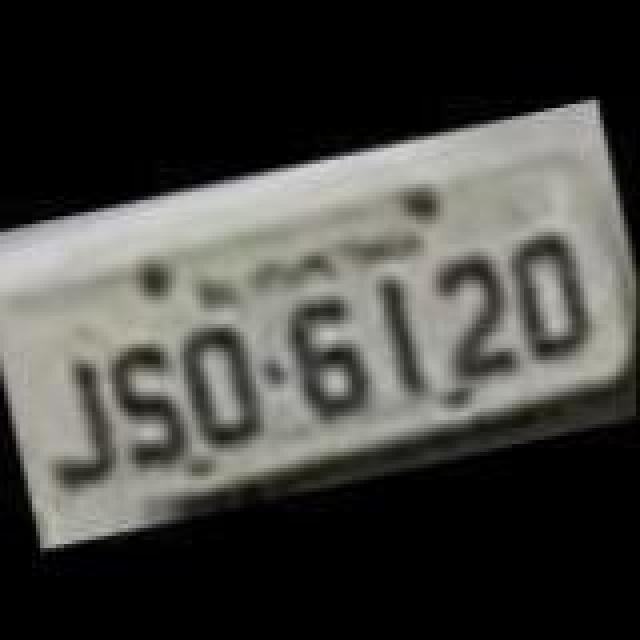1: (368, 266, 436, 390)
2: (428, 246, 528, 378)
6: (280, 288, 380, 420)
J: (24, 350, 128, 490)
O: (166, 322, 266, 454), (502, 228, 598, 364)
S: (102, 336, 194, 468)
